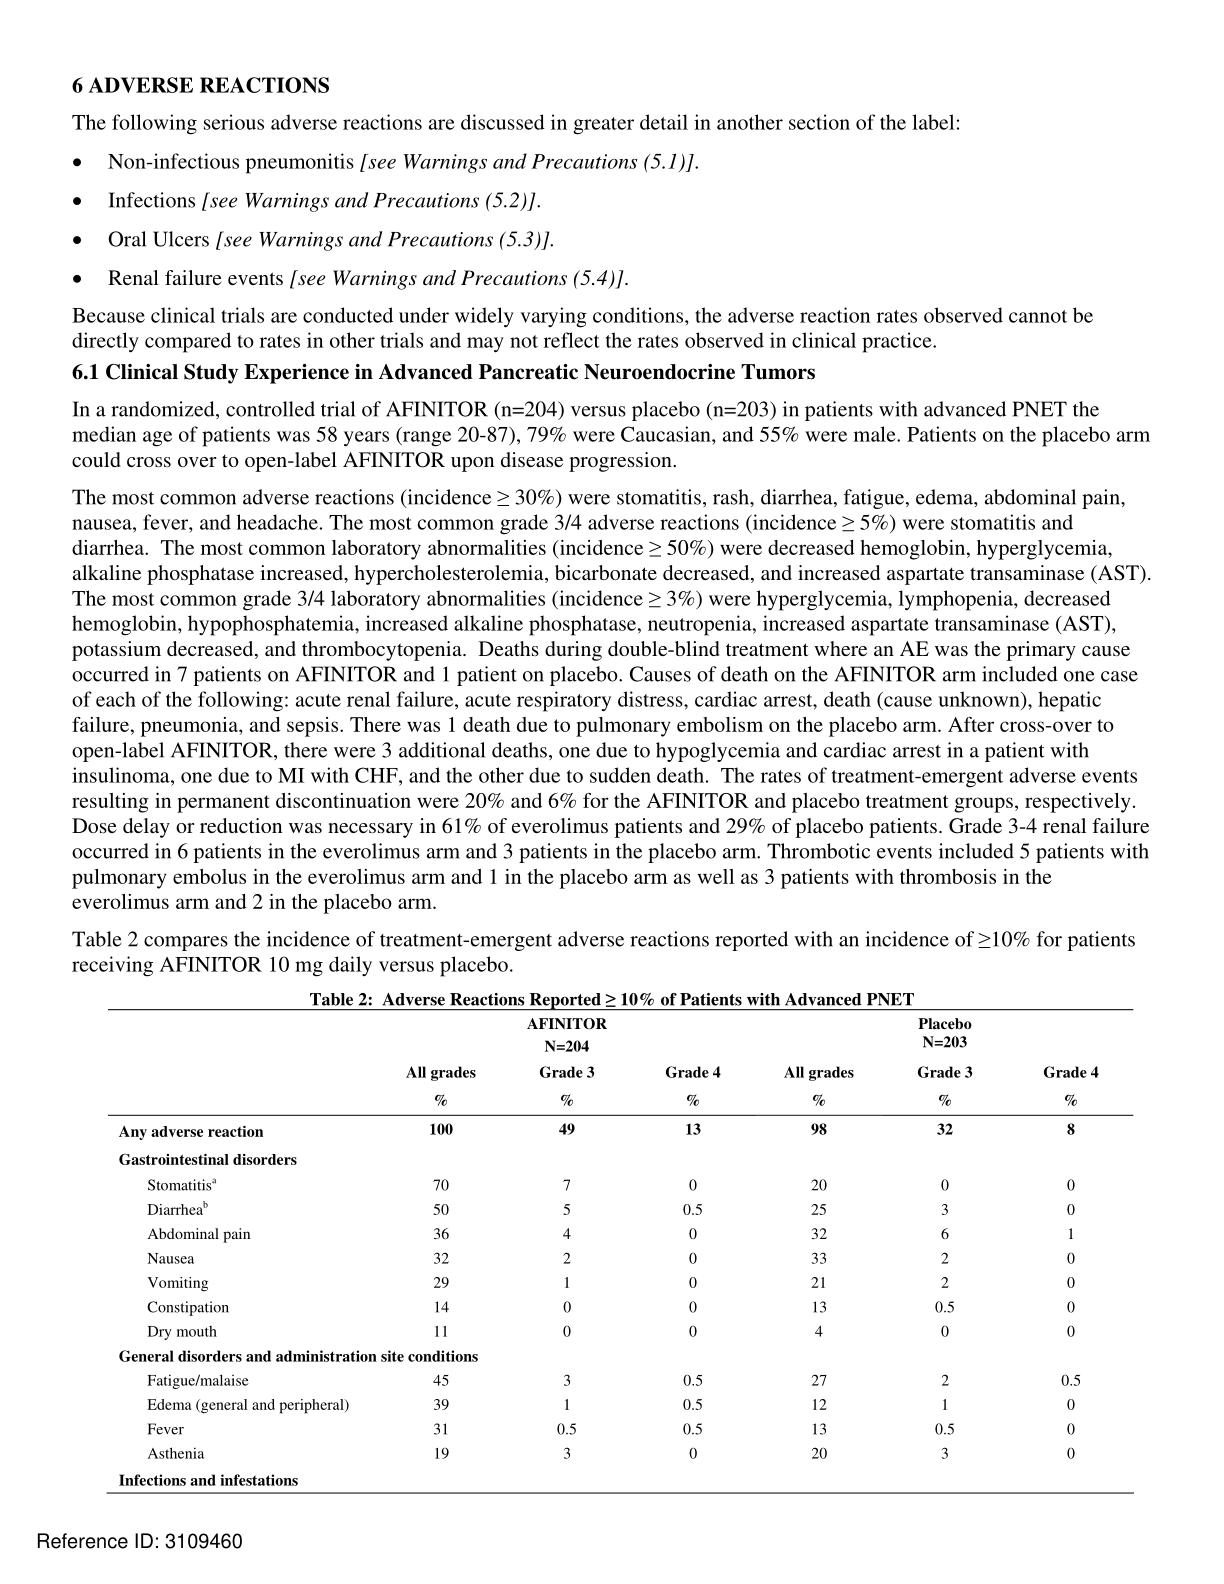partial_lined_merged_cells: (102, 1007, 1140, 1497)
